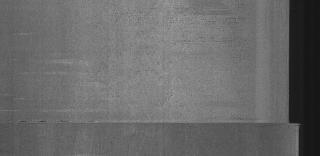welding line: (2, 116, 306, 130)
